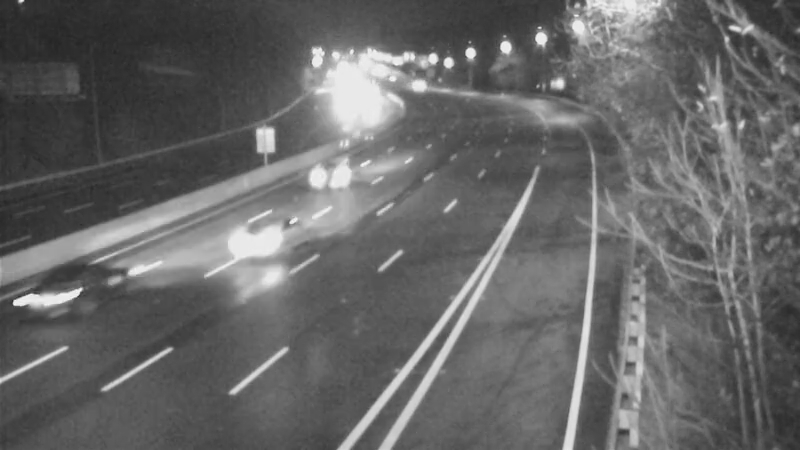vehicle: (284, 142, 364, 222), (224, 195, 304, 275), (16, 244, 96, 324), (392, 58, 442, 108)
